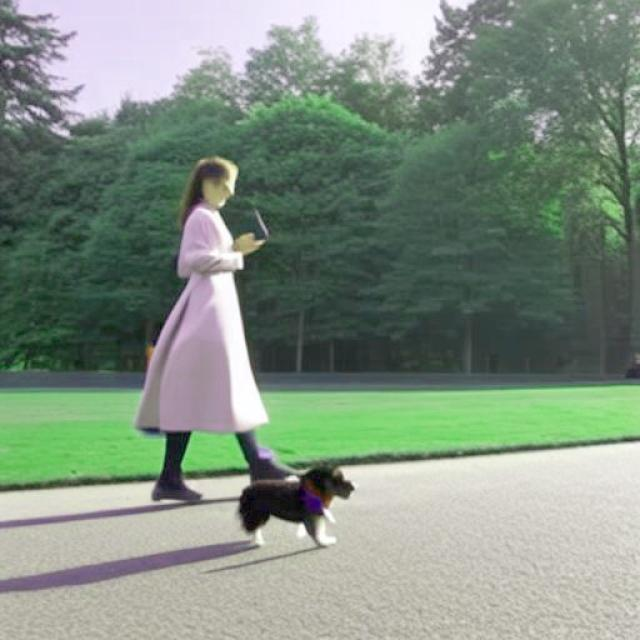Unleashed_Dog: (189, 300, 357, 548)
